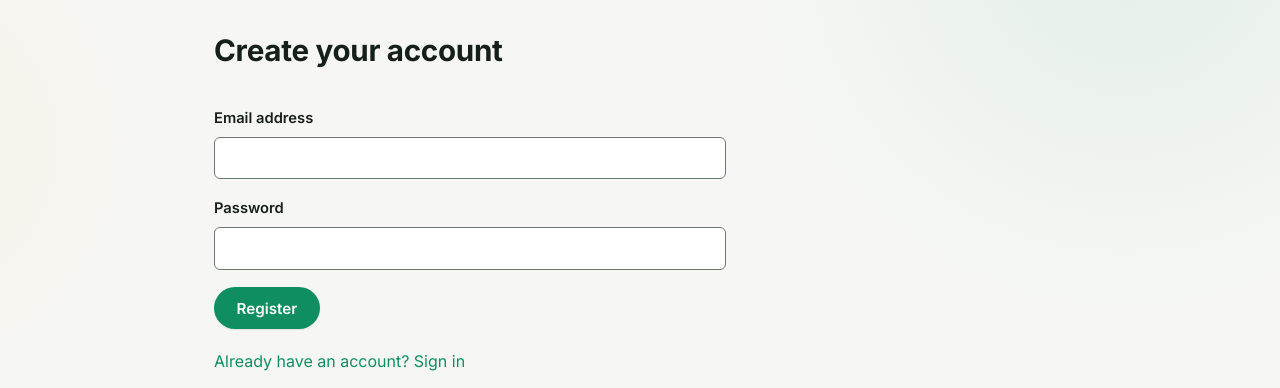
Test case: RegisterForm › happy path: valid email/password succeeds and shows the check-your-email state
In the field labelled "Email address": (470, 158) [214,136,726,179], type "new@example.com"
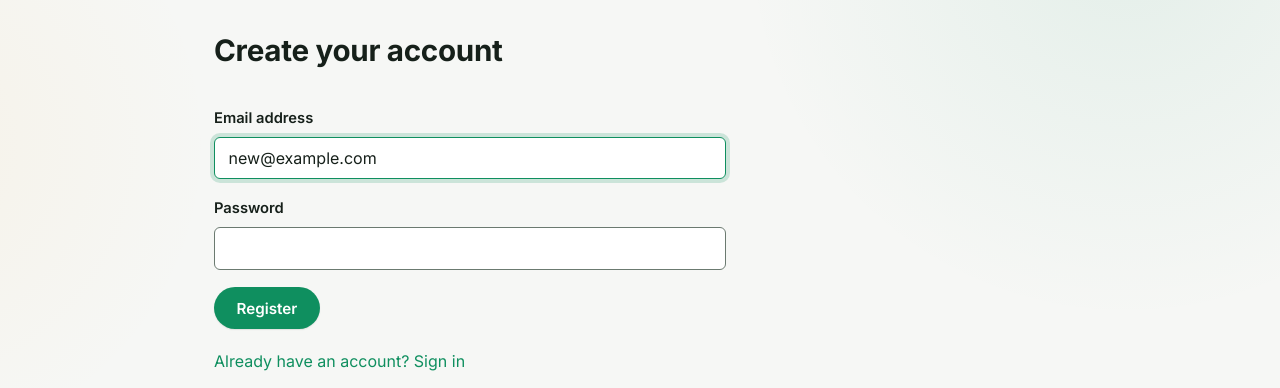
In the password field labelled "Password": (470, 248) [214,227,726,270], type "a-real-password"
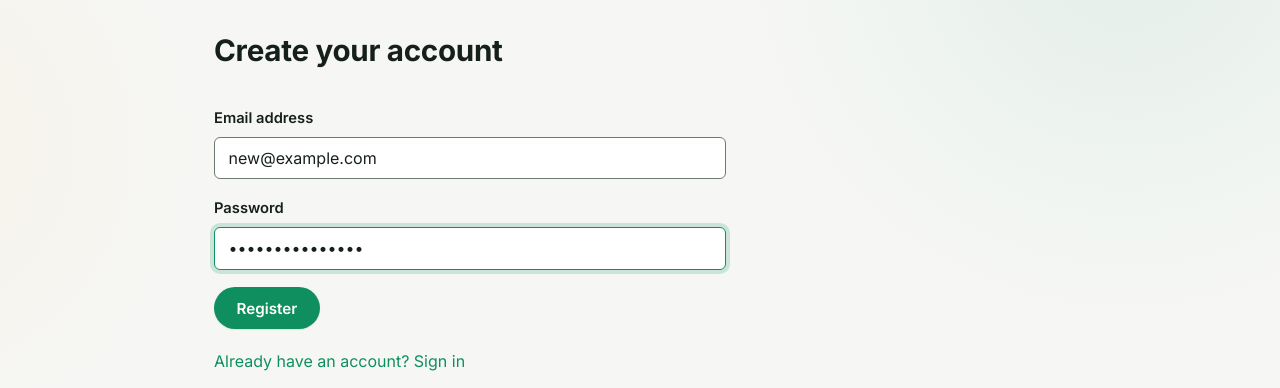
Click the button "Register": (267, 308) [214,287,320,329]
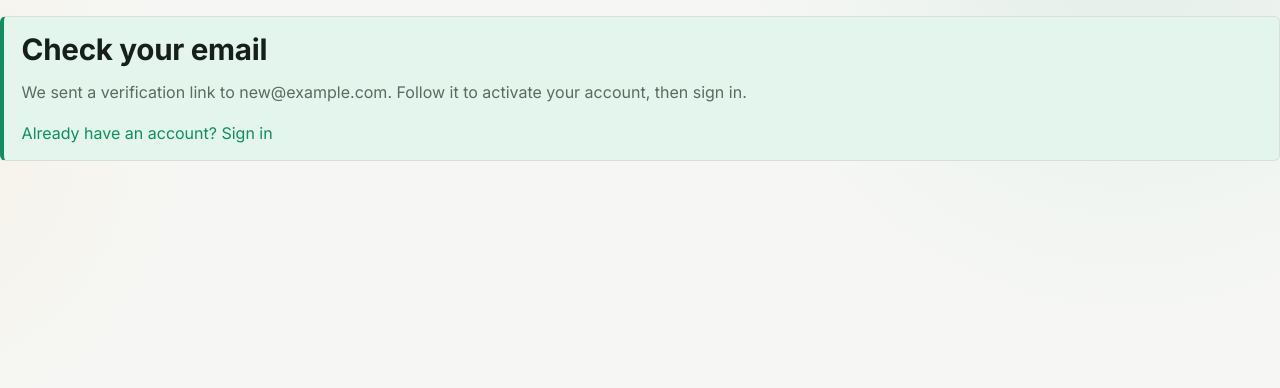
Expected: the heading "Check your email" is shown, [22,31,267,67]
Expected: the text "new@example.com" is shown, [22,82,747,102]
